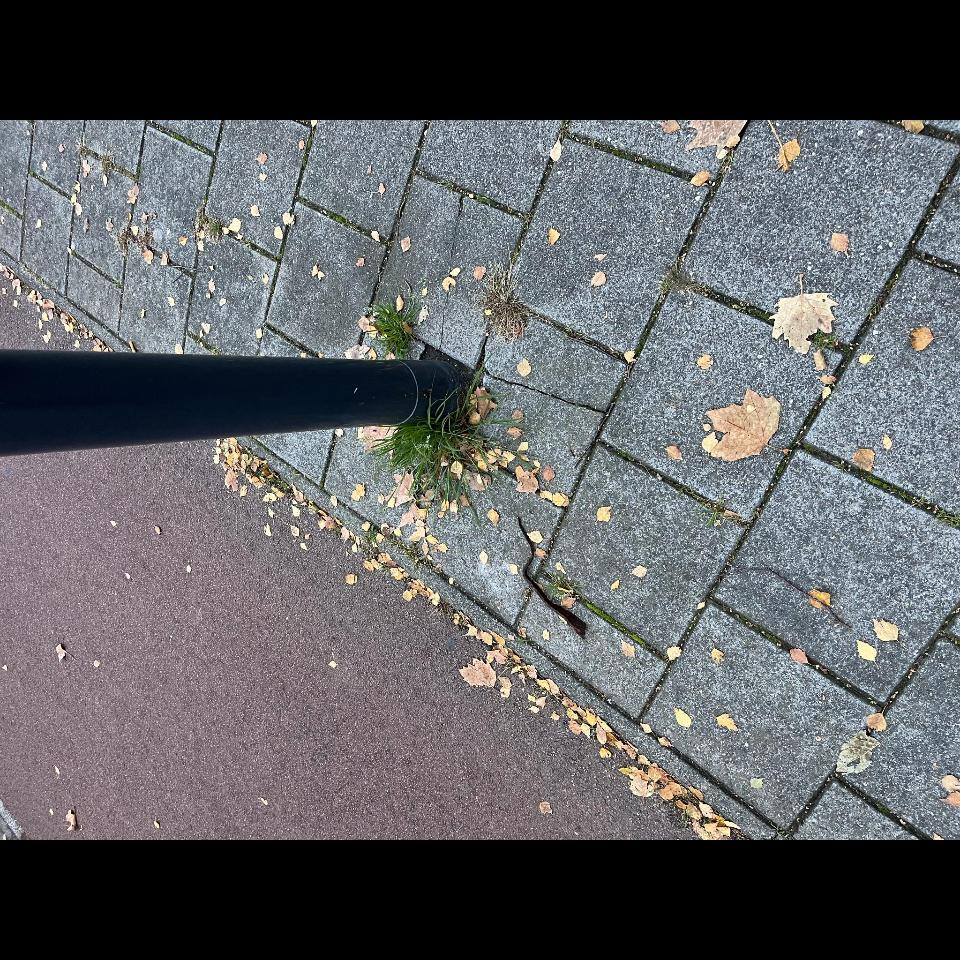weed: (370, 372, 508, 503), (480, 264, 529, 339), (368, 296, 415, 359)
